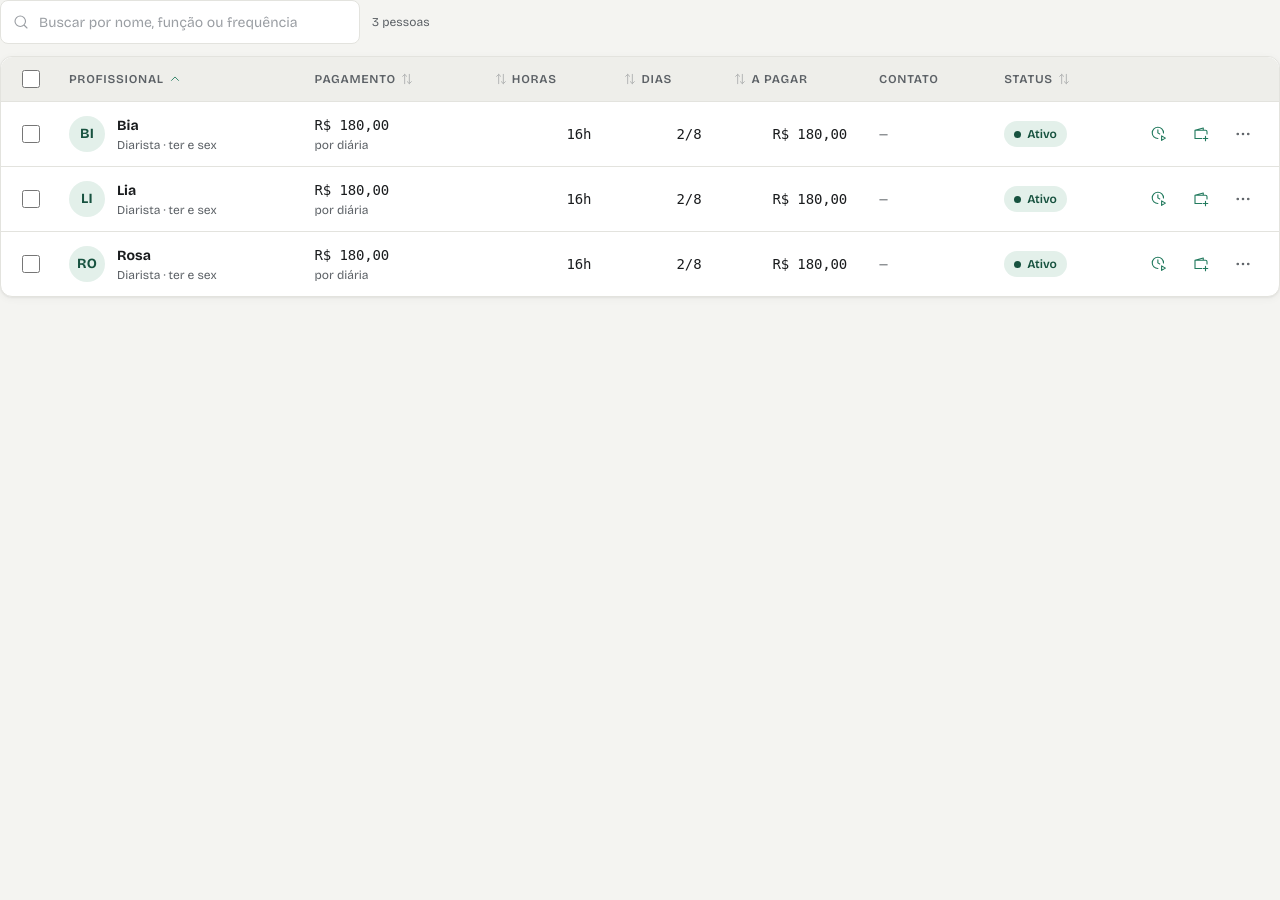
TeamTable bulk actions › removes the selected people after one confirmation, with undo
Click the checkbox in the row of "Contato" at x=31, y=79, box [22,70,40,88]
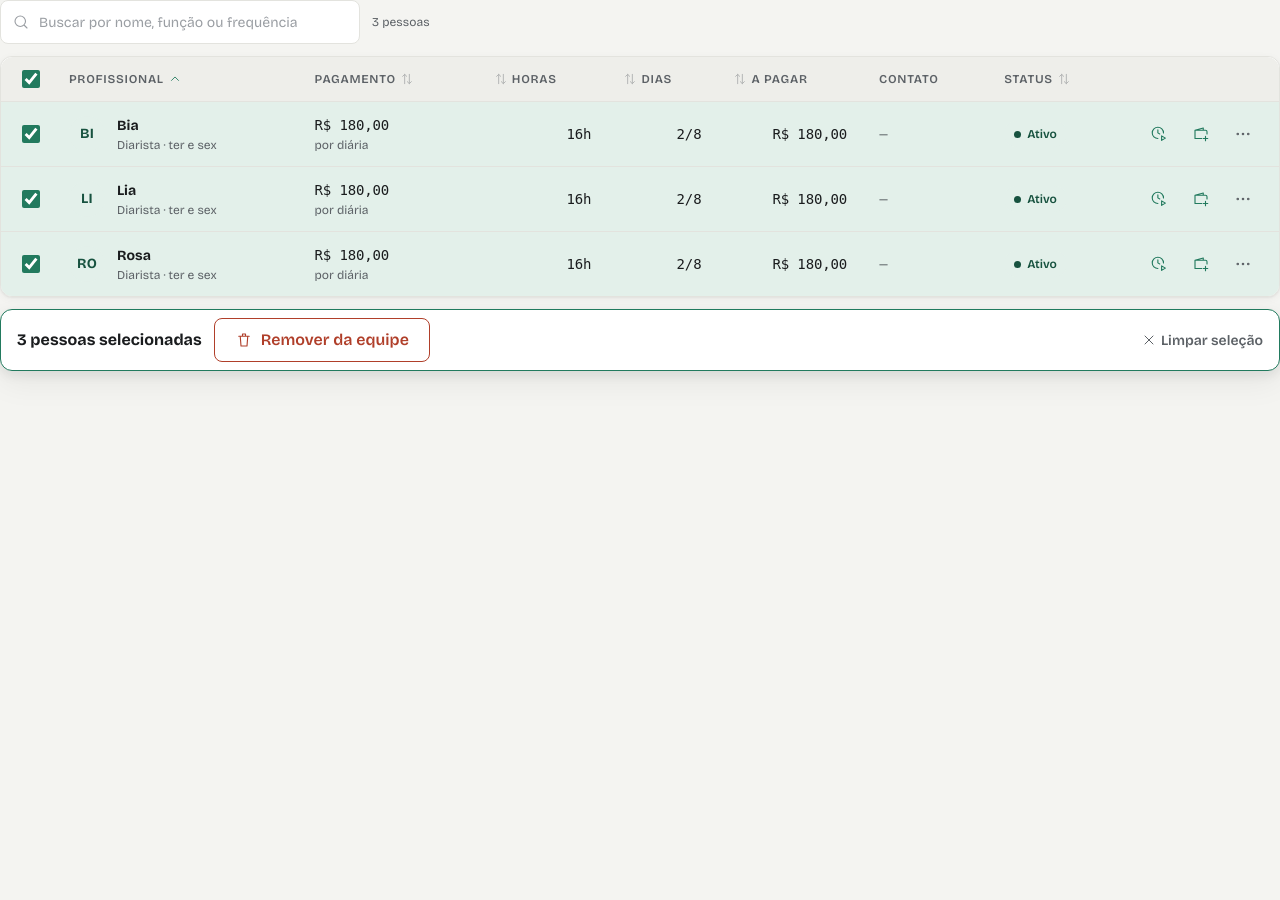
Check: the element with class "dt__bulk" shows "3 pessoas selecionadas", box [17,330,202,349]
Click the button "Remover da equipe" at x=322, y=340, box [214,318,430,362]
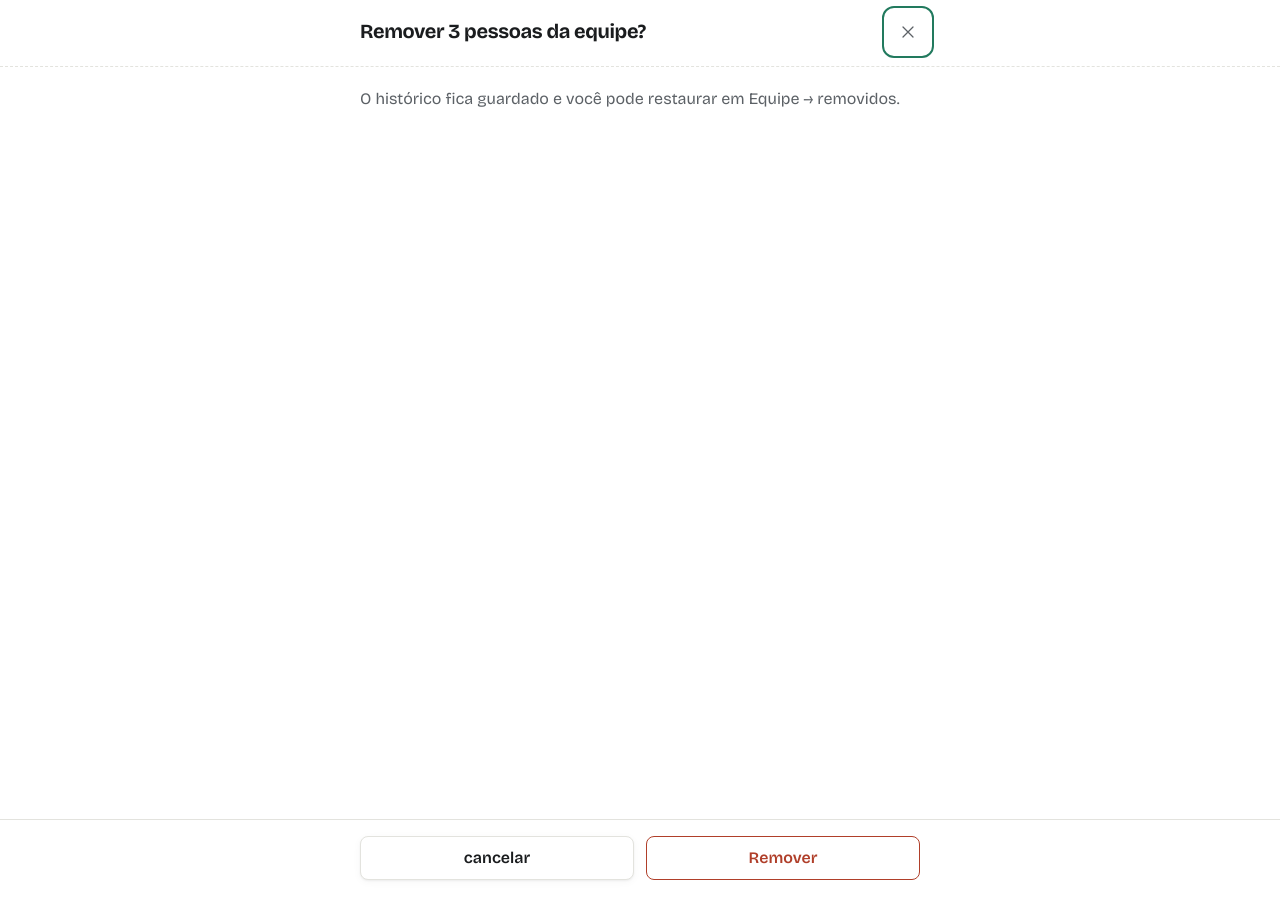
Check: the dialog shows "Remover 3 pessoas da equipe?", box [360,19,646,43]
Click the button "Remover" at x=783, y=858, box [646,836,920,880]
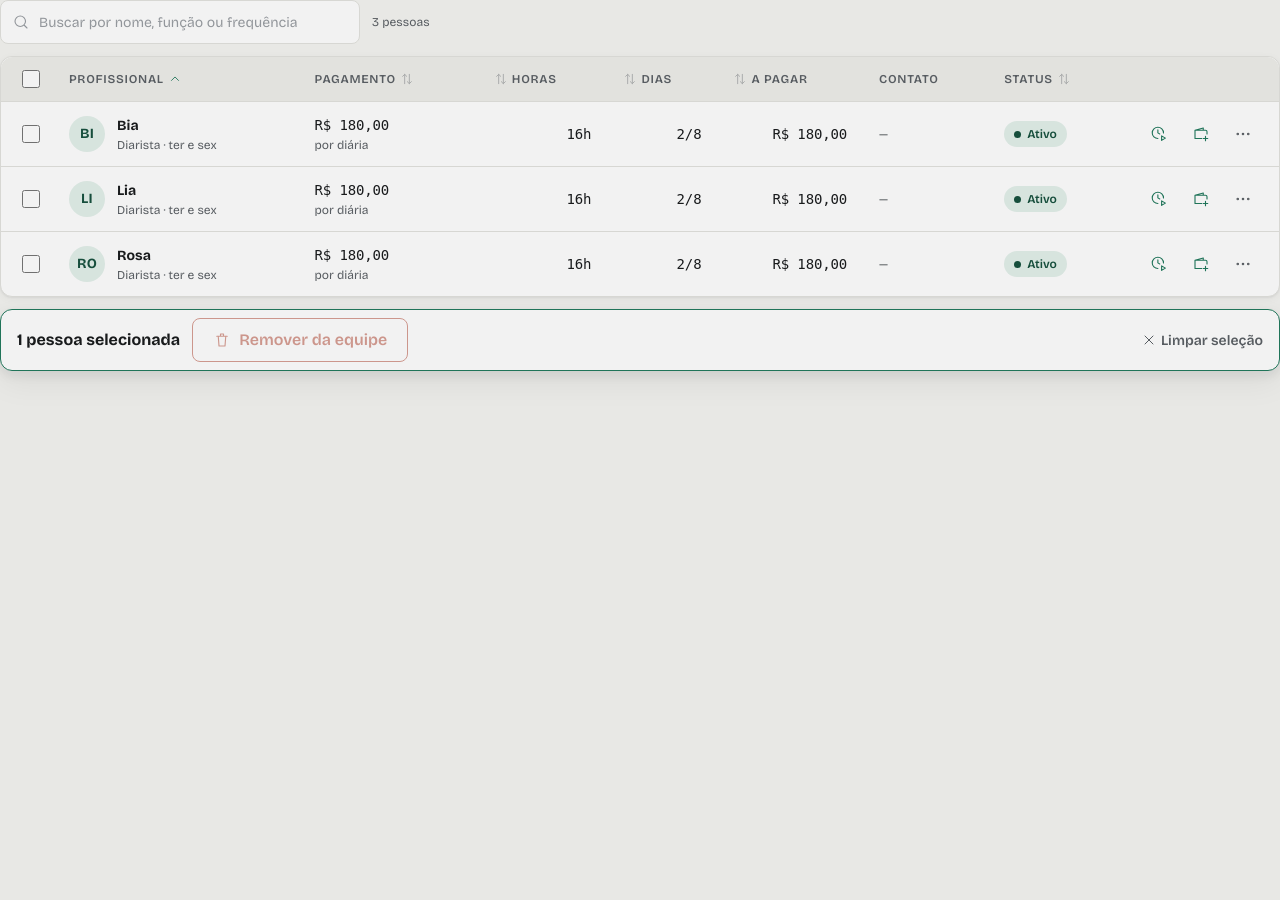
Check: the element with class "dt__bulk" shows "1 pessoa selecionada", box [17,330,180,349]
